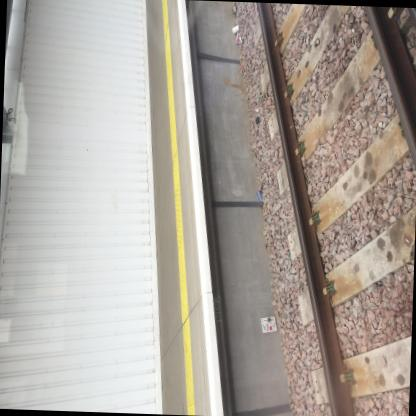Metal: (239, 36, 243, 45)
Paper: (232, 24, 240, 33)
Plastic: (256, 189, 263, 202), (256, 115, 260, 123), (233, 21, 234, 26)
Waste: (236, 31, 241, 43)
